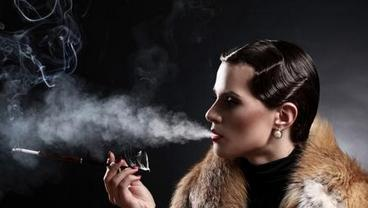smoking: (11, 145, 152, 178)
